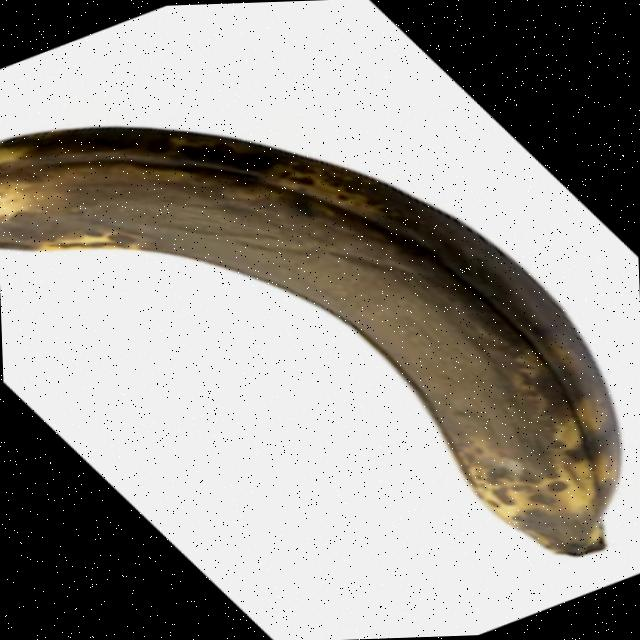Rotten: (0, 109, 625, 576)
